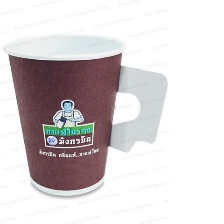paper_cup: (0, 28, 172, 201)
